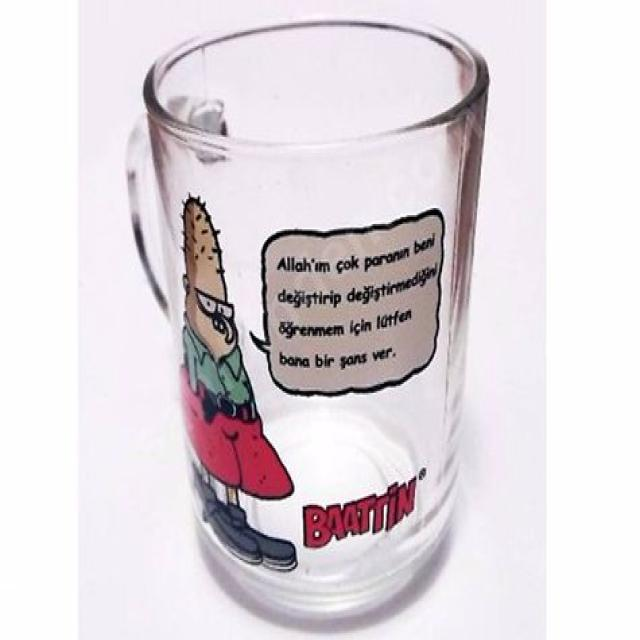Coffee Mug: (118, 18, 490, 620)
